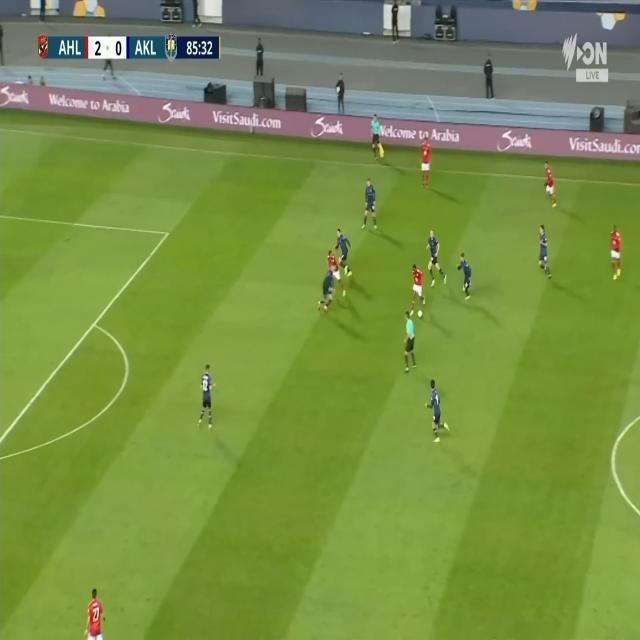Ball: (418, 309, 423, 319)
Player: (425, 376, 451, 444), (426, 229, 450, 291), (200, 362, 218, 434), (84, 589, 106, 640), (326, 248, 347, 298), (334, 227, 353, 278), (538, 221, 554, 281), (318, 264, 334, 316), (610, 223, 624, 280), (457, 254, 473, 302), (411, 264, 426, 315), (363, 179, 378, 228), (542, 161, 556, 210), (419, 140, 432, 186)
Ref: (402, 310, 418, 372), (371, 112, 385, 162)
